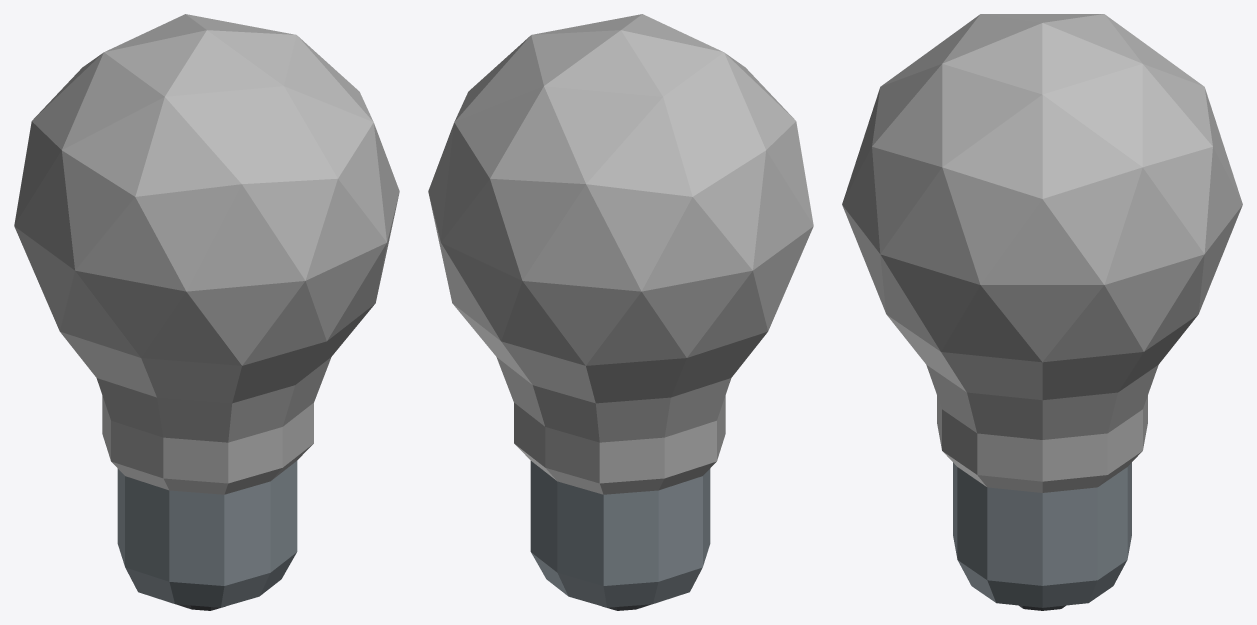
Rendered from SM_Icon_Light_Pointlight_01.fbx.
3 views of the same model, side by side, from view 1: azimuth 30°, elevation 25°; view 2: azimuth 150°, elevation 25°; view 3: azimuth 270°, elevation 25° (orthographic).
Parts seen in each view (by area): view 1: SM_Icon_Light_Pointlight_01; view 2: SM_Icon_Light_Pointlight_01; view 3: SM_Icon_Light_Pointlight_01.
Part boxes in pixels (left/top/right/bottom): SM_Icon_Light_Pointlight_01: left=14, top=14, right=399, bottom=610; SM_Icon_Light_Pointlight_01: left=428, top=14, right=813, bottom=610; SM_Icon_Light_Pointlight_01: left=842, top=14, right=1242, bottom=610.
Bounding box in the file's own units: 28.79 × 48.04 × 30.27.
